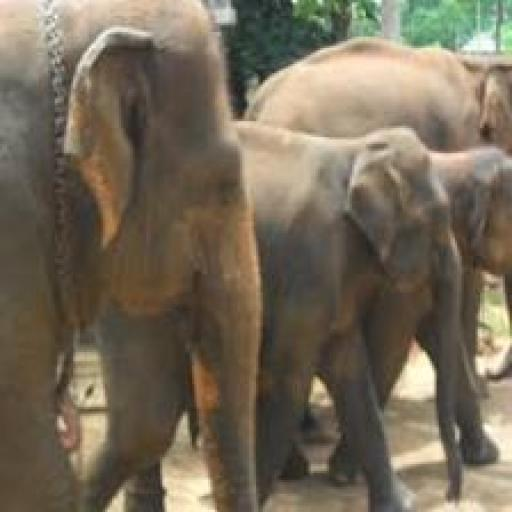Elephant: (0, 0, 263, 510), (201, 121, 458, 509)
